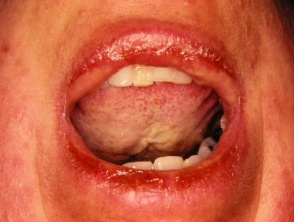SJS-TEN: (53, 26, 261, 194)
